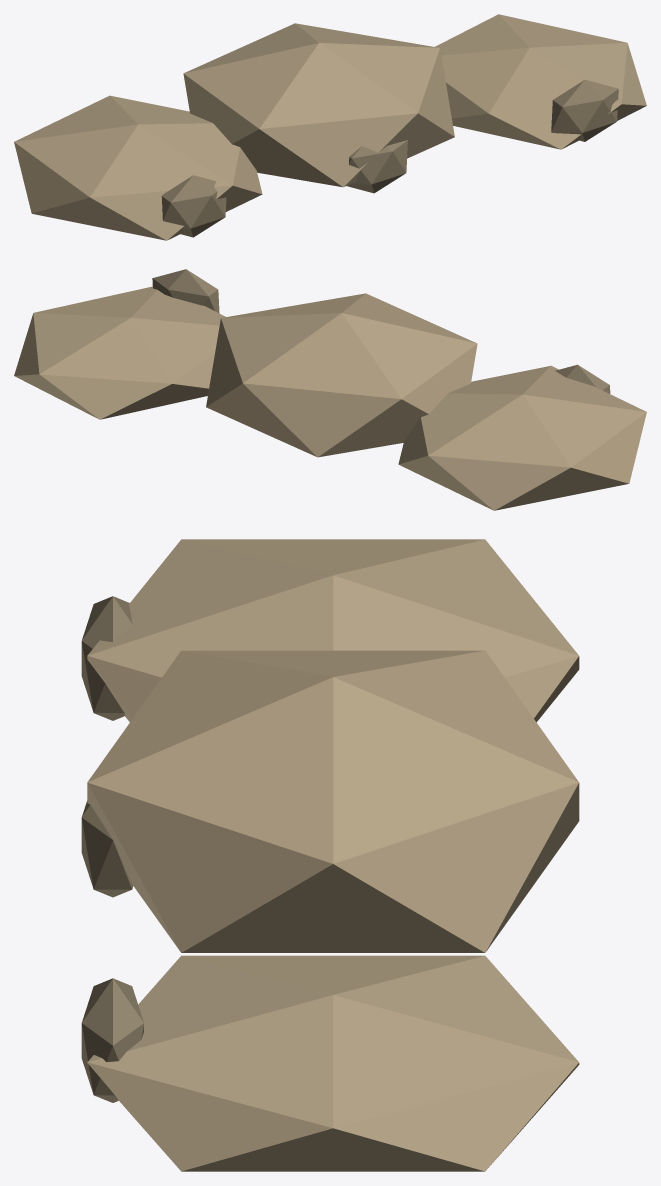
Rendered from map-exclusive-v3__shore_14.glb.
3 renders of one model, top to bottom at view 1: azimuth 30°, elevation 25°; view 2: azimuth 150°, elevation 25°; view 3: azimuth 270°, elevation 25°, orthographic. The views are drawn at different scales.
Visible parts, largest first — view 1: shore_14; view 2: shore_14; view 3: shore_14.
Boxes of the visible parts, left/top/right/bottom form: shore_14: left=14, top=14, right=646, bottom=240; shore_14: left=14, top=269, right=646, bottom=510; shore_14: left=81, top=539, right=579, bottom=1171.
Size of the model in its own units: 3 by 0.6 by 1.08.
